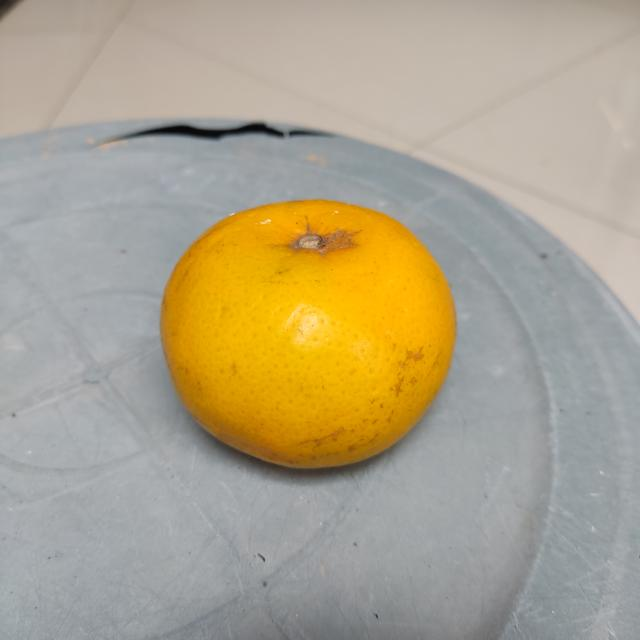orange: (152, 198, 458, 472)
